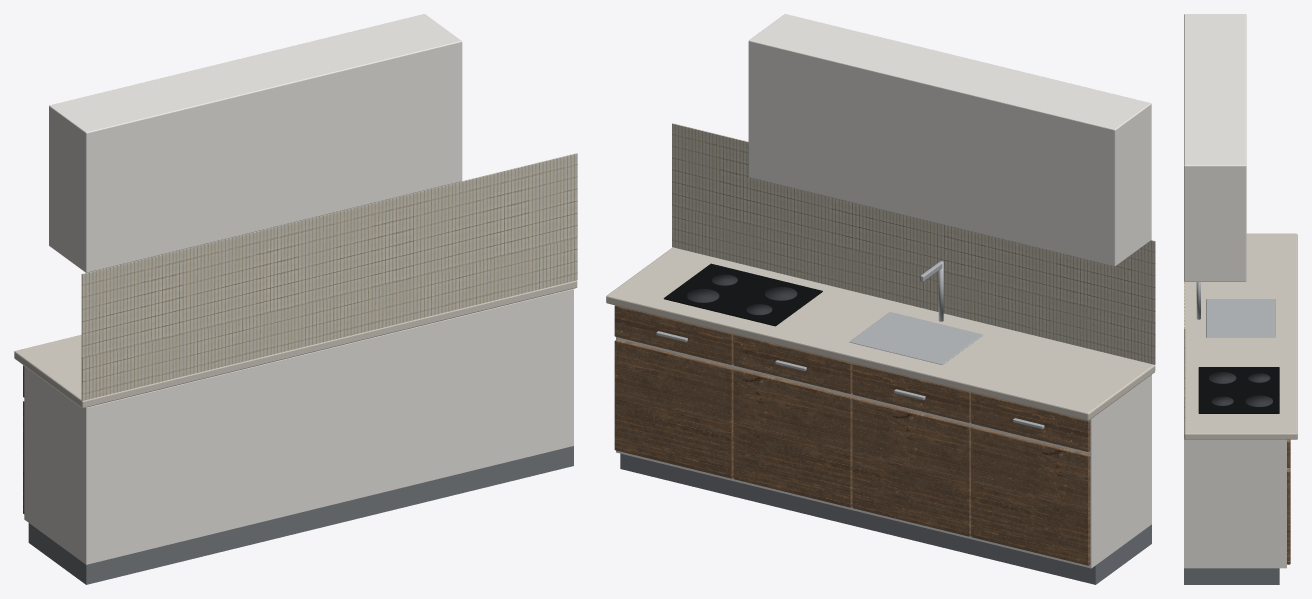
File: counter.glb
3 renders of one model, left to right at view 1: azimuth 30°, elevation 25°; view 2: azimuth 150°, elevation 25°; view 3: azimuth 270°, elevation 25°, orthographic. The views are drawn at different scales.
Visible parts, largest first — view 1: counter_carcass, counter_wall_units, counter_splash, counter_plinth, counter_top; view 2: counter_wall_units, counter_fronts, counter_splash, counter_top, counter_carcass, counter_plinth, counter_hob, counter_sink; view 3: counter_wall_units, counter_top, counter_carcass, counter_hob, counter_sink, counter_plinth, counter_fronts, counter_splash, counter_ring3, counter_ring0, counter_tap, counter_ring2 (+1 smaller).
Part boxes in pixels (x1,y1,x2,y2): counter_carcass: (24, 289, 573, 564); counter_wall_units: (49, 14, 462, 272); counter_splash: (81, 153, 577, 400); counter_plinth: (28, 446, 573, 584); counter_top: (14, 280, 577, 408); counter_wall_units: (748, 14, 1151, 266); counter_fronts: (614, 305, 1090, 565); counter_splash: (672, 123, 1155, 364); counter_top: (606, 247, 1155, 420); counter_carcass: (616, 337, 1151, 568); counter_plinth: (620, 453, 1151, 584); counter_hob: (663, 263, 822, 326); counter_sink: (849, 312, 982, 364); counter_wall_units: (1184, 14, 1246, 281); counter_top: (1184, 233, 1297, 439); counter_carcass: (1184, 439, 1286, 568); counter_hob: (1198, 367, 1279, 413); counter_sink: (1206, 299, 1275, 337); counter_plinth: (1184, 568, 1279, 584); counter_fronts: (1287, 439, 1290, 564); counter_splash: (1184, 281, 1185, 433); counter_ring3: (1245, 395, 1272, 407); counter_ring0: (1209, 372, 1236, 383); counter_tap: (1196, 282, 1200, 319); counter_ring2: (1248, 373, 1270, 382).
Size of the model in its own units: 2.58 by 2.25 by 0.62.
Materials: 8 (2 with a texture image).
